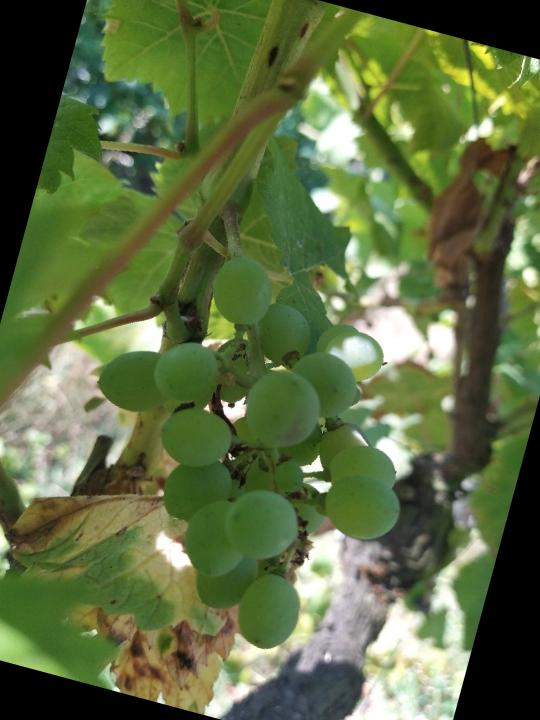grape: (38, 225, 459, 677)
